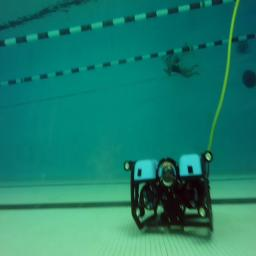front: (124, 151, 217, 233)
